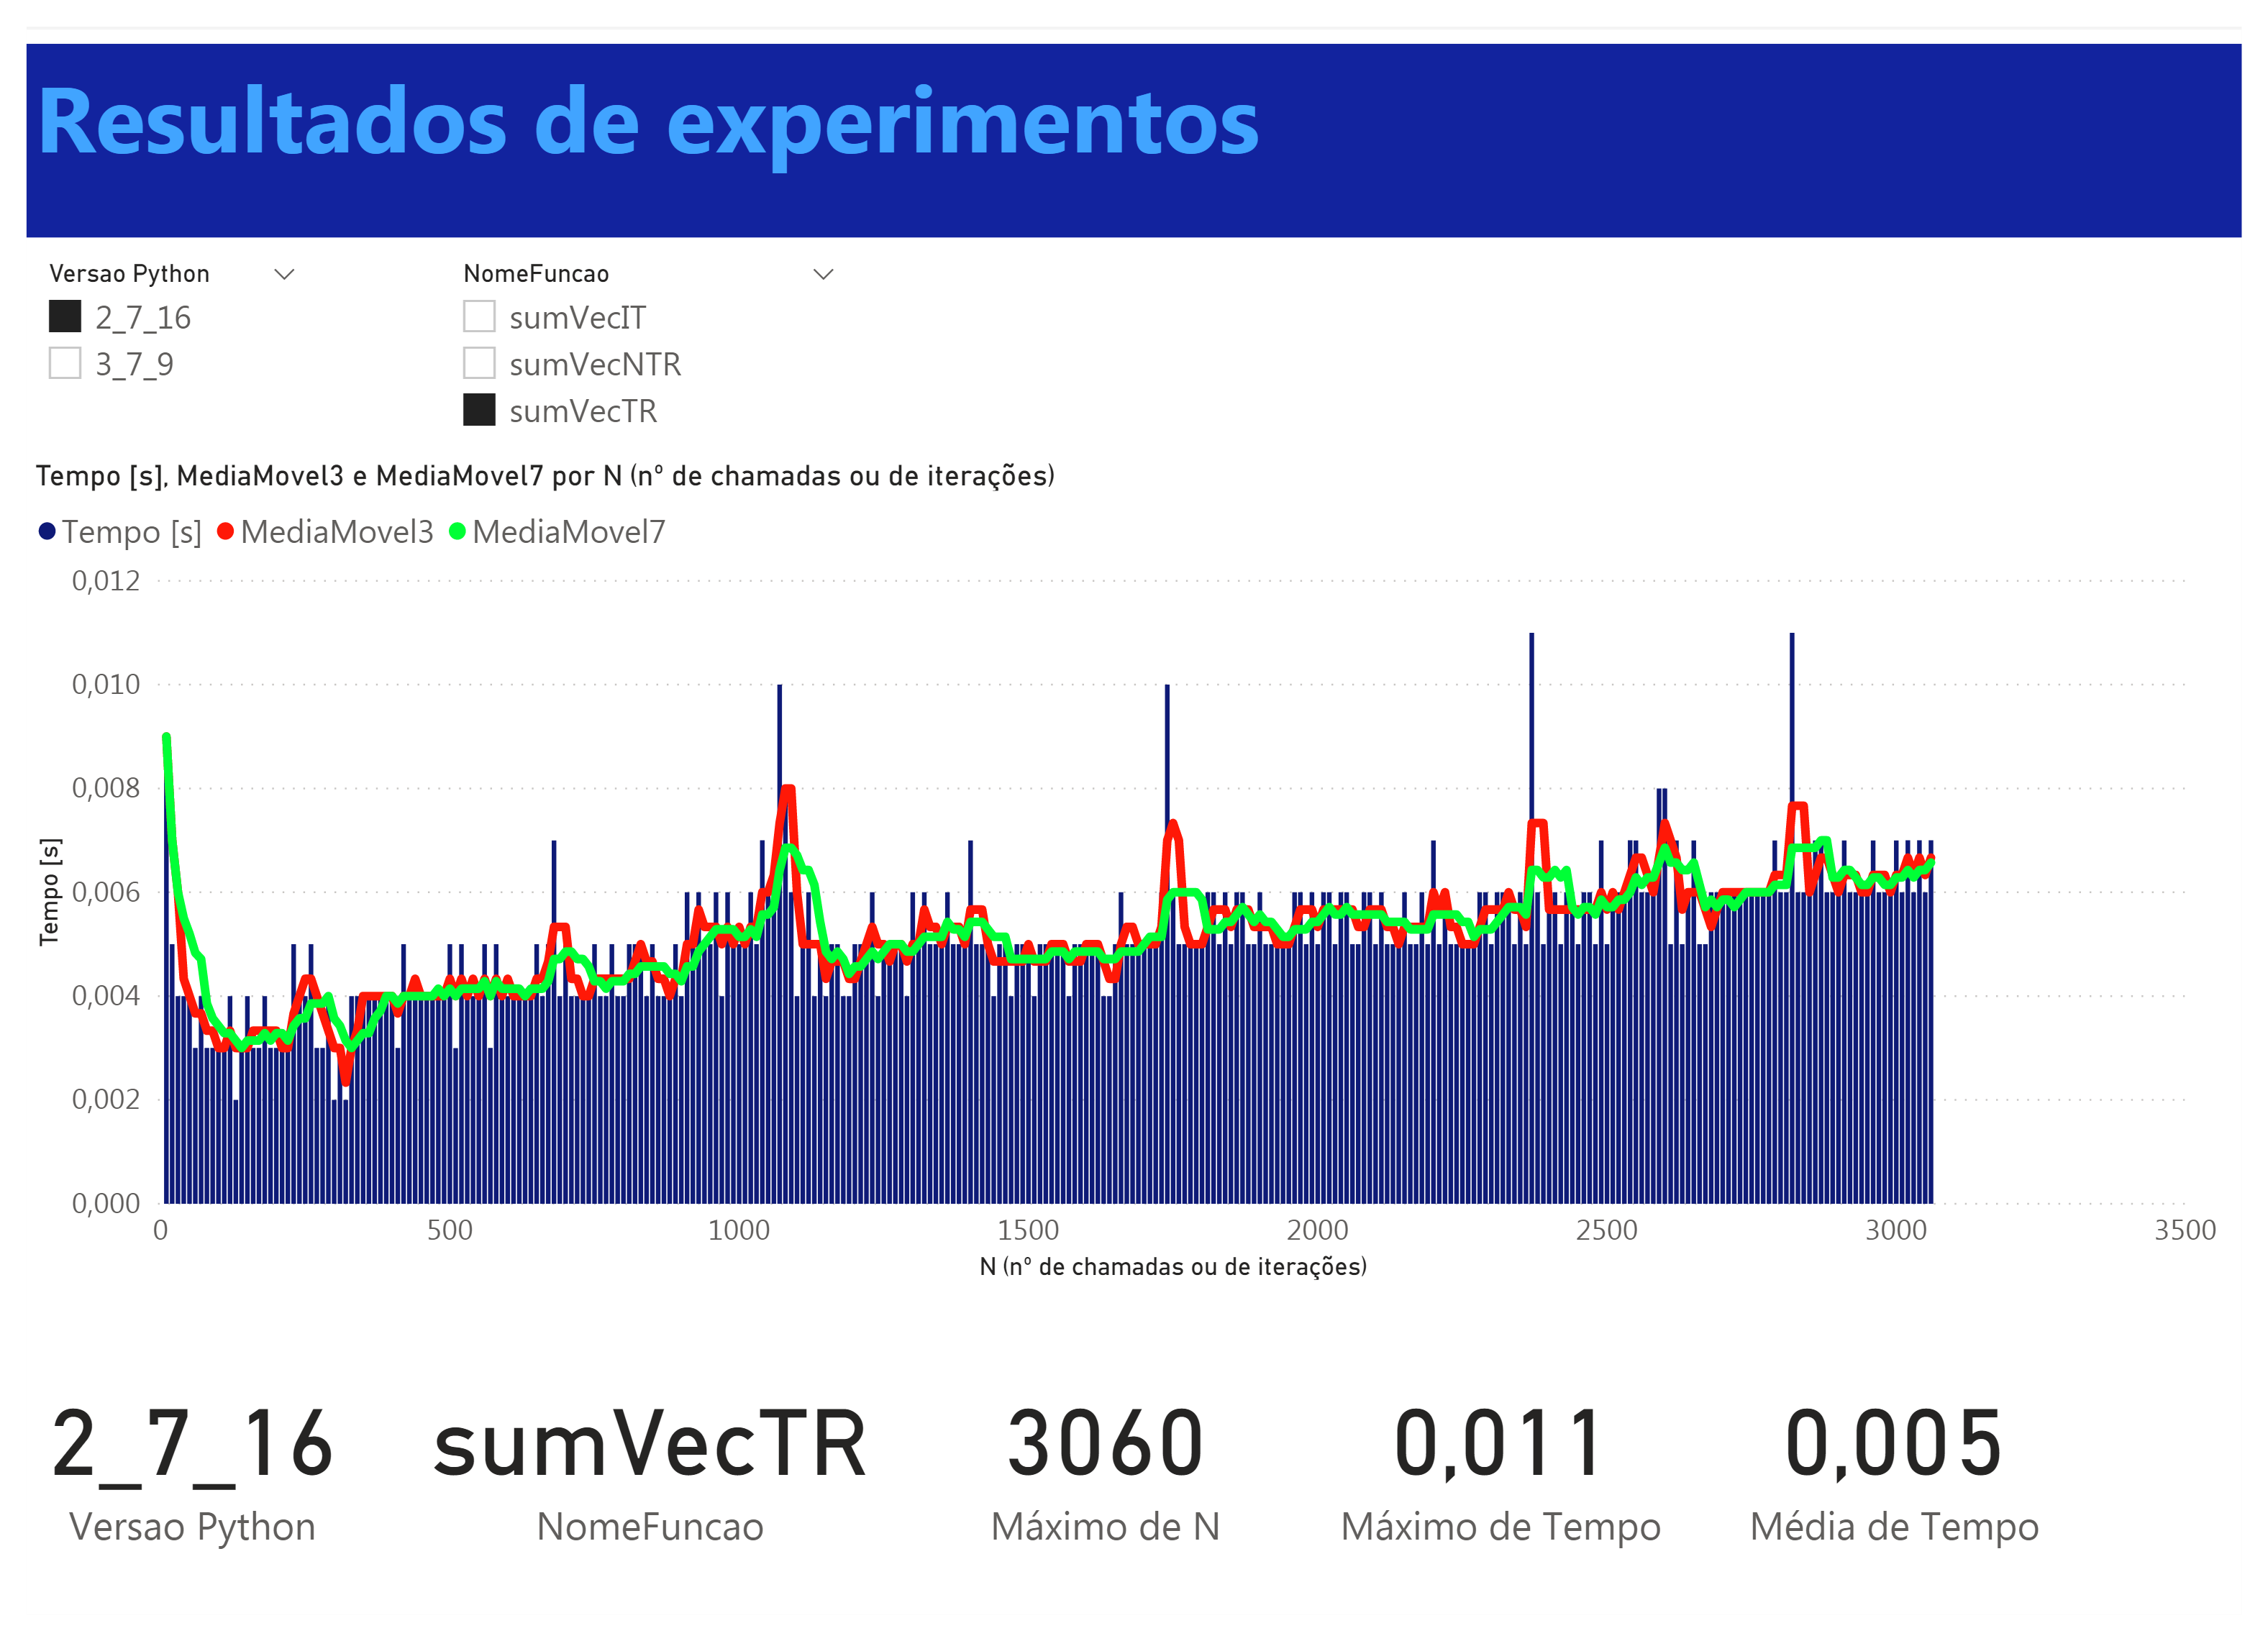

This screenshot's page, from the dashboard's own definition file:
{"tool":"powerbi","page":{"name":"Soma de Vetor","canvas":[1280,900],"ordinal":5},"visuals":[{"type":"card","fields":{"Values":["Max(Tabela1.Tempo)"]},"box":[744,744,216,144],"z":0},{"type":"card","fields":{"Values":["Min(Tabela1.NomeFuncao)"]},"box":[192,744,336,144],"z":1000},{"type":"card","fields":{"Values":["Max(Tabela1.N)"]},"box":[552,744,144,144],"z":2000},{"type":"card","fields":{"Values":["Avg(Tabela1.Tempo)"]},"box":[984,744,192,144],"z":3000},{"type":"slicer","fields":{"Values":["Tabela1.Versao Python"]},"box":[0,120,168,96],"z":4000},{"type":"card","fields":{"Values":["Min(Tabela1.Versao Python)"]},"box":[0,744,192,144],"z":5000},{"type":"textbox","box":[0,0,1280,112],"z":6000},{"type":"lineClusteredColumnComboChart","fields":{"Y":["Sum(Tabela1.Tempo)"],"Category":["Tabela1.N"],"Y2":["Tabela1.MediaMovel3","Tabela1.MediaMovel7"]},"box":[0,240,1272,480],"z":7000},{"type":"slicer","fields":{"Values":["Tabela1.NomeFuncao"]},"box":[240,120,240,120],"z":8000}]}

Visuals, with their boxes in screenshot pixels (x1, y1, x2, y2), scaled from the page's 1280x900 canvas onto the 2268x1641 screenshot:
card - Max(Tabela1.Tempo): <bbox>1319, 1356, 1701, 1619</bbox>
card - Min(Tabela1.NomeFuncao): <bbox>340, 1356, 936, 1619</bbox>
card - Max(Tabela1.N): <bbox>978, 1356, 1233, 1619</bbox>
card - Avg(Tabela1.Tempo): <bbox>1744, 1356, 2084, 1619</bbox>
slicer - Tabela1.Versao Python: <bbox>0, 219, 298, 394</bbox>
card - Min(Tabela1.Versao Python): <bbox>0, 1356, 340, 1619</bbox>
textbox: <bbox>0, 0, 2267, 204</bbox>
lineClusteredColumnComboChart - Sum(Tabela1.Tempo) x Tabela1.N: <bbox>0, 438, 2254, 1313</bbox>
slicer - Tabela1.NomeFuncao: <bbox>425, 219, 850, 438</bbox>
